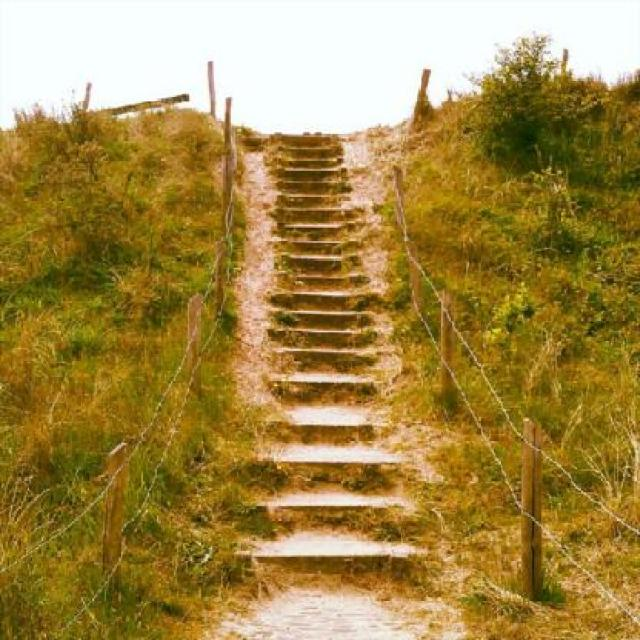stair: (252, 133, 420, 584)
